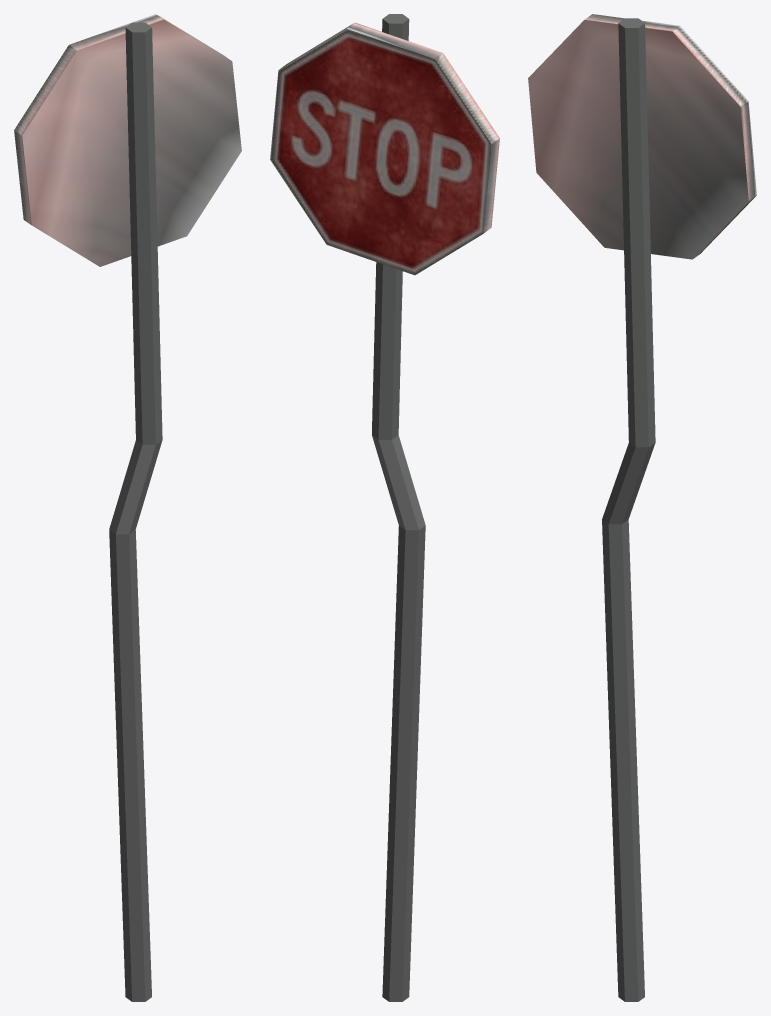
The model's file is stop.fbx.
3 views of the same model, side by side, from view 1: azimuth 30°, elevation 25°; view 2: azimuth 150°, elevation 25°; view 3: azimuth 330°, elevation 25° (orthographic).
Visible parts, largest first — view 1: Circle, Cylinder; view 2: Circle, Cylinder; view 3: Circle, Cylinder.
Part boxes in pixels (box(x1,y1,x2,y2)): Circle: box(14, 14, 241, 266); Cylinder: box(109, 22, 162, 1001); Circle: box(270, 22, 499, 275); Cylinder: box(372, 14, 425, 1001); Circle: box(528, 14, 756, 259); Cylinder: box(602, 18, 655, 1001).
Bounding box in the file's own units: 1907 × 8039 × 337.
Materials: 2 (1 with a texture image).
